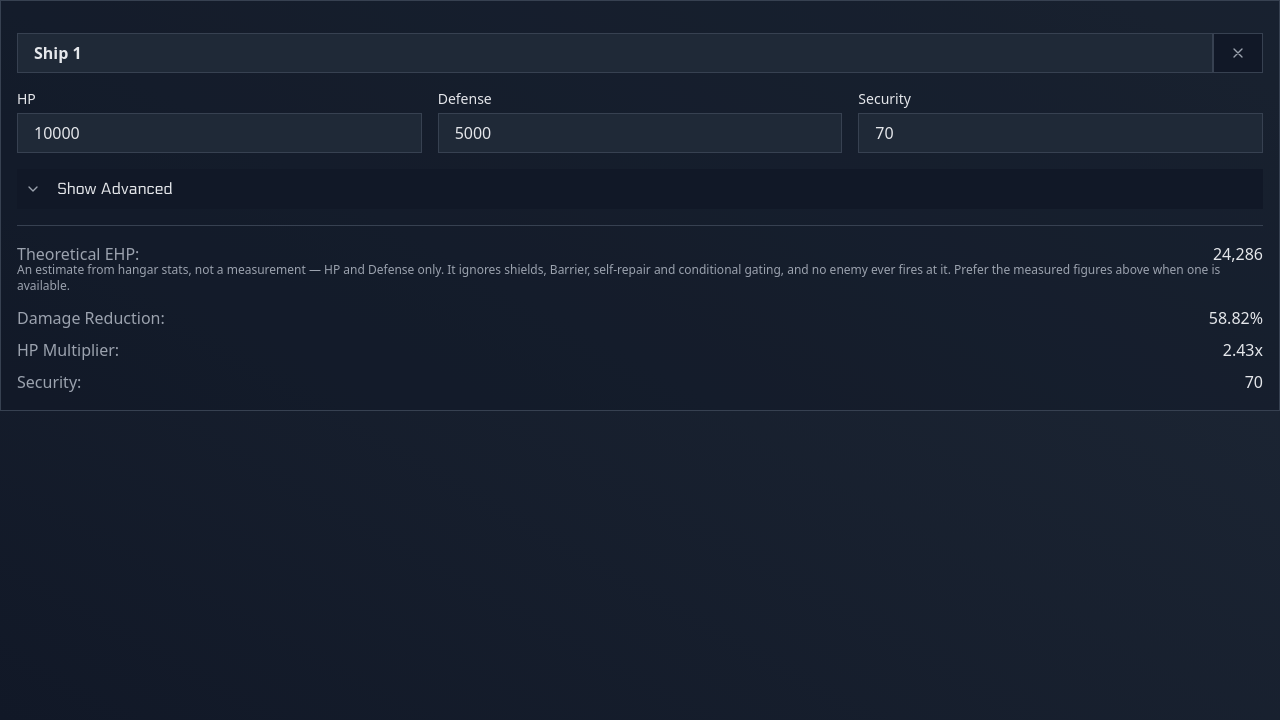
DefenseShipCard › clamps a negative Security to 0 at commit instead of passing it through
This screenshot has width=1280, height=720.
Replace the text in the number field labelled "Security" with "-5": (1061,133) [858,113,1263,153]
Wait 300 ms
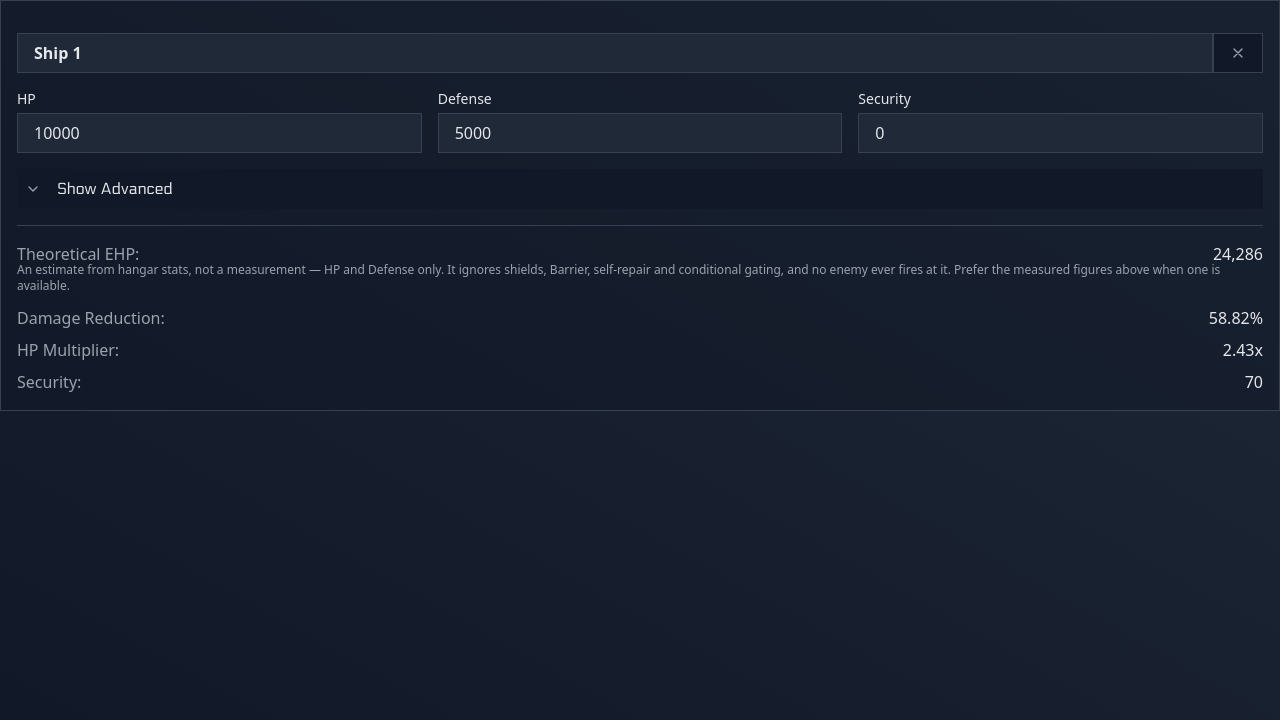
Result: the number field labelled "Security" holds "0" at [858,113,1263,153]
